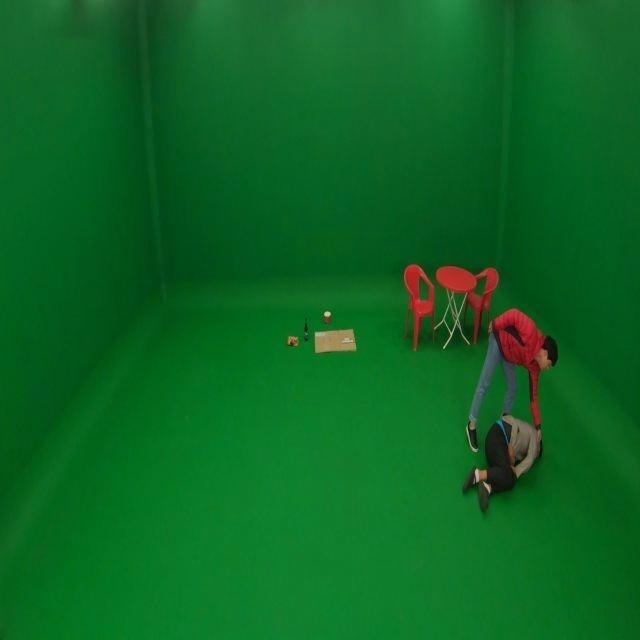fight: (458, 306, 562, 513)
